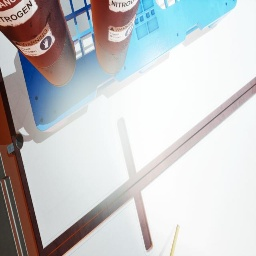NitrogenTank ,: (0, 0, 76, 87), (90, 0, 140, 75)
